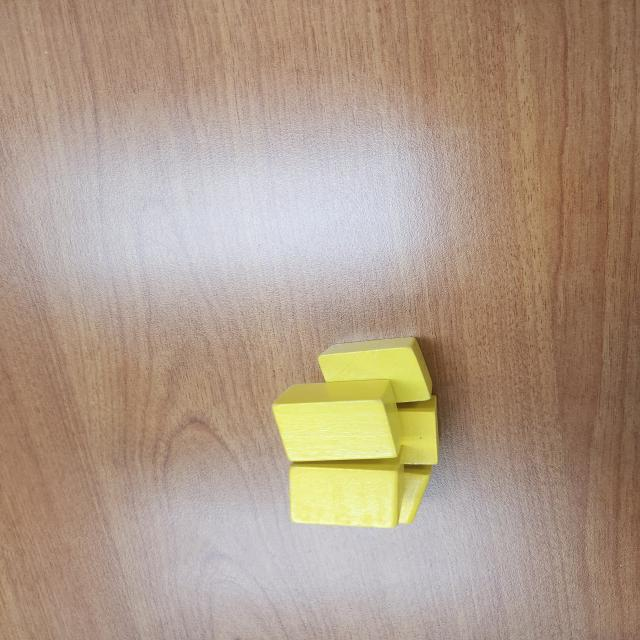yellow: (274, 379, 404, 463), (288, 445, 408, 528), (315, 336, 435, 404), (336, 394, 442, 466), (391, 468, 434, 524)
